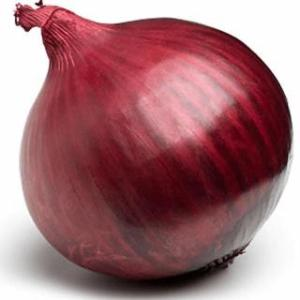onion: (18, 0, 292, 282)
